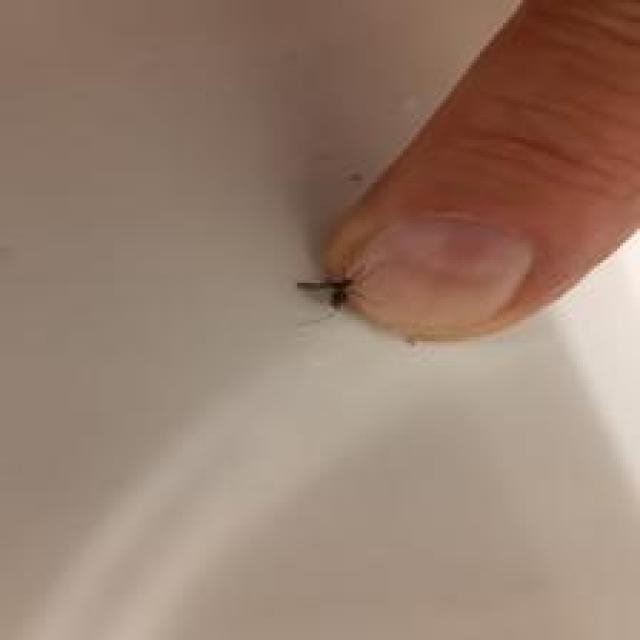Aedes albopictus: (296, 272, 358, 314)
